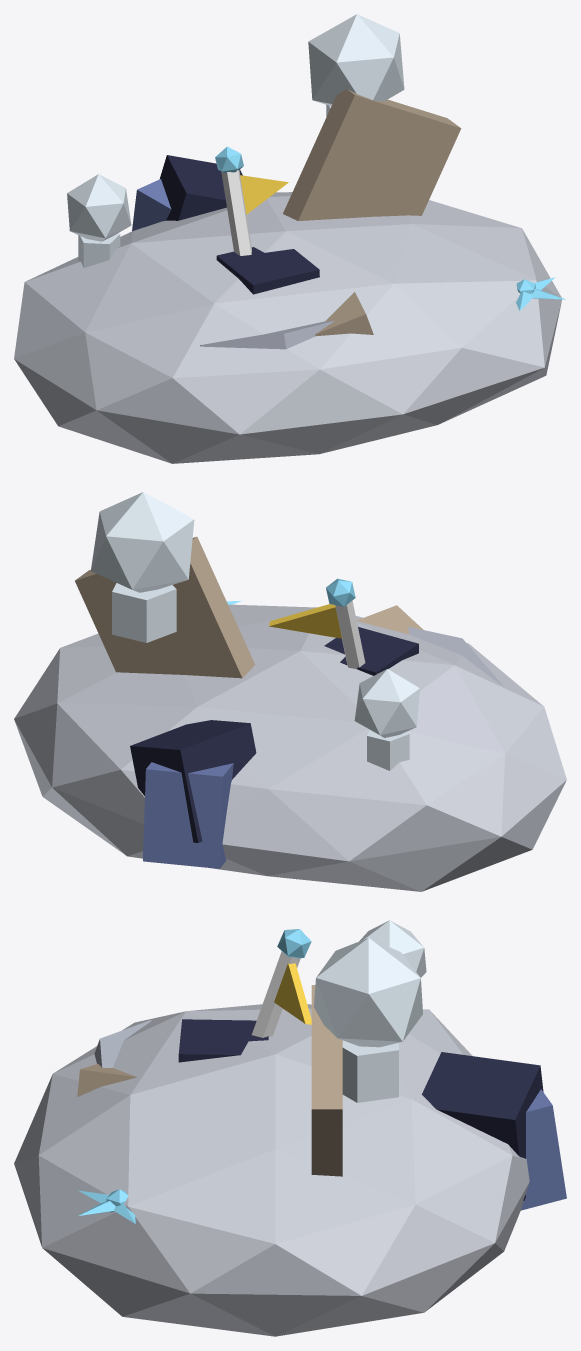
The model's file is space-ruin.glb.
3 renders of one model, top to bottom at view 1: azimuth 30°, elevation 25°; view 2: azimuth 150°, elevation 25°; view 3: azimuth 270°, elevation 25°, orthographic. The views are drawn at different scales.
Visible parts, largest first — view 1: space-ruin; view 2: space-ruin; view 3: space-ruin.
Boxes of the visible parts, bbox=[...] form: space-ruin: bbox=[14, 14, 565, 463]; space-ruin: bbox=[14, 492, 566, 891]; space-ruin: bbox=[14, 920, 566, 1336].
Bounding box in the file's own units: 1.19 × 0.7194 × 1.07.
